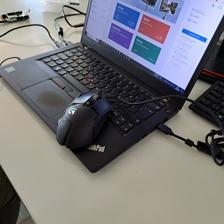mouse: (55, 89, 113, 148)
